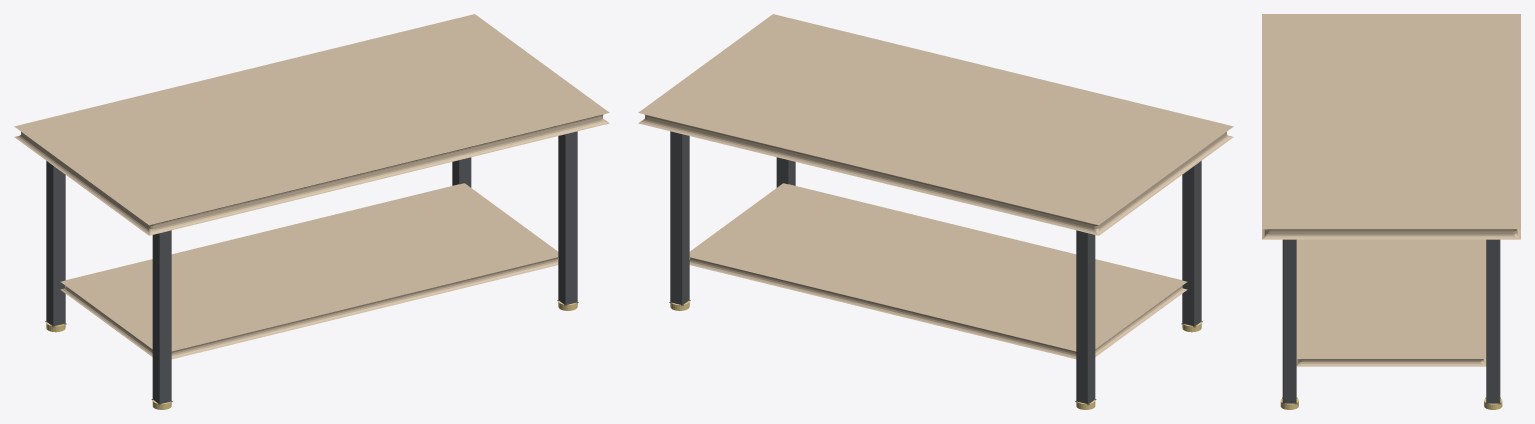
File: modern_table.glb
3 views of the same model, side by side, from view 1: azimuth 30°, elevation 25°; view 2: azimuth 150°, elevation 25°; view 3: azimuth 270°, elevation 25° (orthographic). The views are drawn at different scales.
Visible parts, largest first — view 1: EXP_SM_Table_Top, EXP_SM_Table_Shelf, EXP_SM_Table_Leg_L_F, EXP_SM_Table_Leg_R_F, EXP_SM_Table_Leg_L_B; view 2: EXP_SM_Table_Top, EXP_SM_Table_Shelf, EXP_SM_Table_Leg_L_B, EXP_SM_Table_Leg_R_B, EXP_SM_Table_Leg_L_F; view 3: EXP_SM_Table_Top, EXP_SM_Table_Shelf, EXP_SM_Table_Leg_R_B, EXP_SM_Table_Leg_R_F.
Part boxes in pixels (x1=…): EXP_SM_Table_Top: x1=14, y1=14, x2=609, y2=235; EXP_SM_Table_Shelf: x1=60, y1=183, x2=558, y2=359; EXP_SM_Table_Leg_L_F: x1=151, y1=230, x2=172, y2=405; EXP_SM_Table_Leg_R_F: x1=557, y1=131, x2=578, y2=306; EXP_SM_Table_Leg_L_B: x1=45, y1=161, x2=66, y2=327; EXP_SM_Table_Top: x1=638, y1=14, x2=1233, y2=235; EXP_SM_Table_Shelf: x1=689, y1=183, x2=1187, y2=359; EXP_SM_Table_Leg_L_B: x1=1075, y1=230, x2=1096, y2=405; EXP_SM_Table_Leg_R_B: x1=669, y1=131, x2=690, y2=306; EXP_SM_Table_Leg_L_F: x1=1181, y1=161, x2=1202, y2=327; EXP_SM_Table_Top: x1=1262, y1=14, x2=1520, y2=239; EXP_SM_Table_Shelf: x1=1296, y1=239, x2=1486, y2=366; EXP_SM_Table_Leg_R_B: x1=1485, y1=239, x2=1500, y2=404; EXP_SM_Table_Leg_R_F: x1=1282, y1=239, x2=1297, y2=404.
Bounding box in the file's own units: 1.83 × 0.75 × 0.928.
